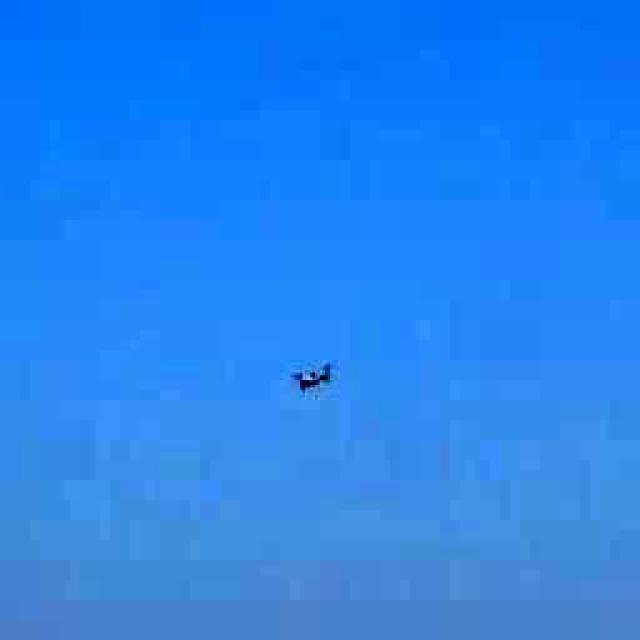bird: (280, 330, 345, 412)
